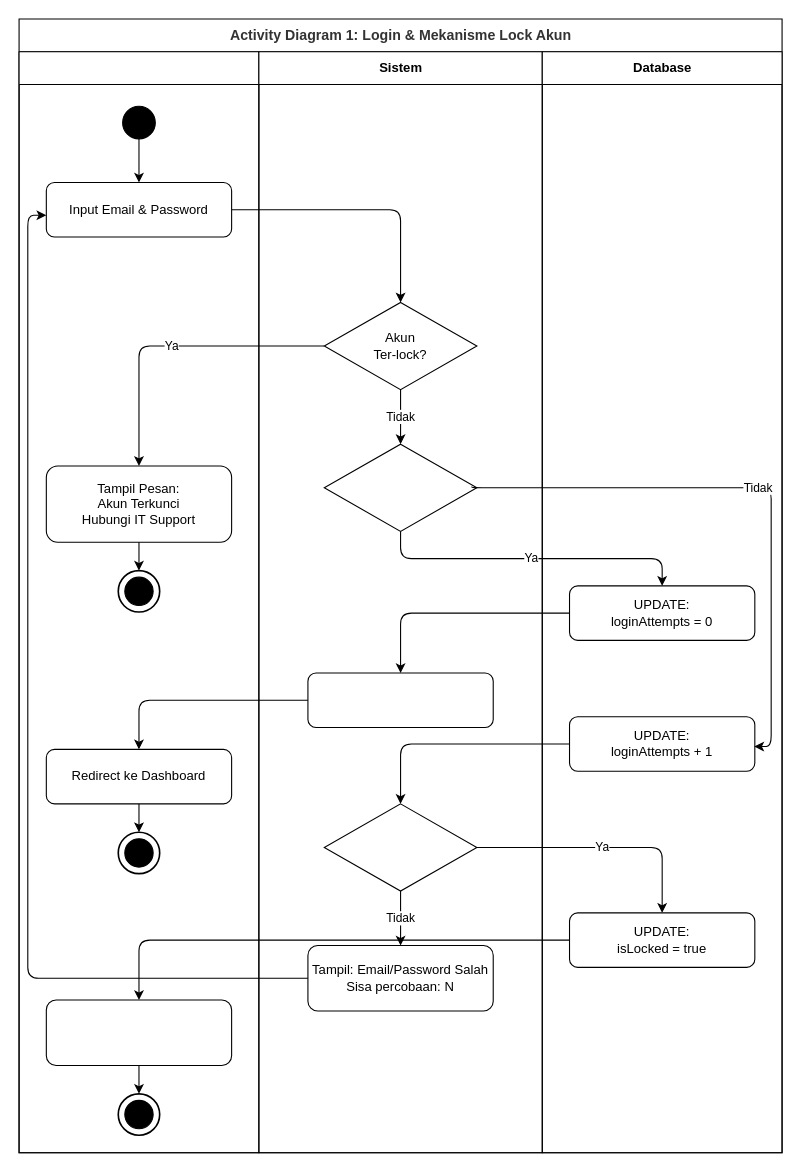
Some shapes in this 801 by 1172 pixel diagram are drawn without their labels. Each missing label, with the box of its shape:
Generate JWT Token: (307, 672, 493, 728)
Kredensial Valid?: (323, 443, 477, 531)
loginAttempts >= 3?: (323, 803, 477, 891)
Tampil Pesan: Akun Terkunci: (45, 999, 232, 1065)
User: (18, 51, 259, 1153)
